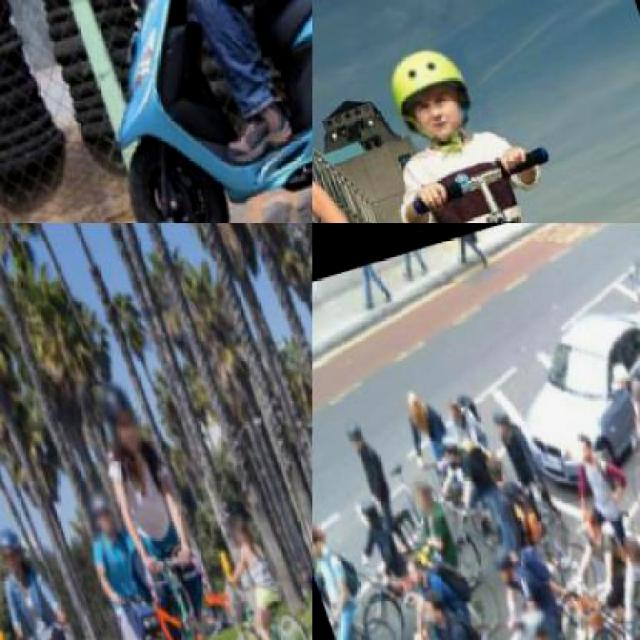With Helmet: (374, 31, 484, 158), (87, 379, 145, 464), (76, 486, 116, 545), (478, 540, 518, 594), (501, 600, 554, 638), (0, 525, 25, 580), (352, 494, 378, 529), (486, 407, 511, 442), (342, 420, 363, 451)
Without Helmet: (560, 419, 602, 473), (405, 585, 449, 632), (402, 477, 436, 520), (219, 515, 253, 556), (398, 388, 427, 428), (616, 532, 638, 572)
